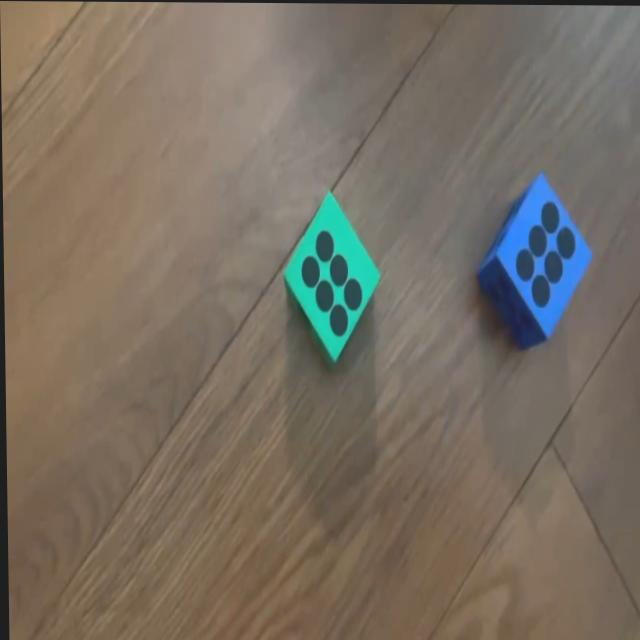blue_block: (476, 168, 596, 350)
